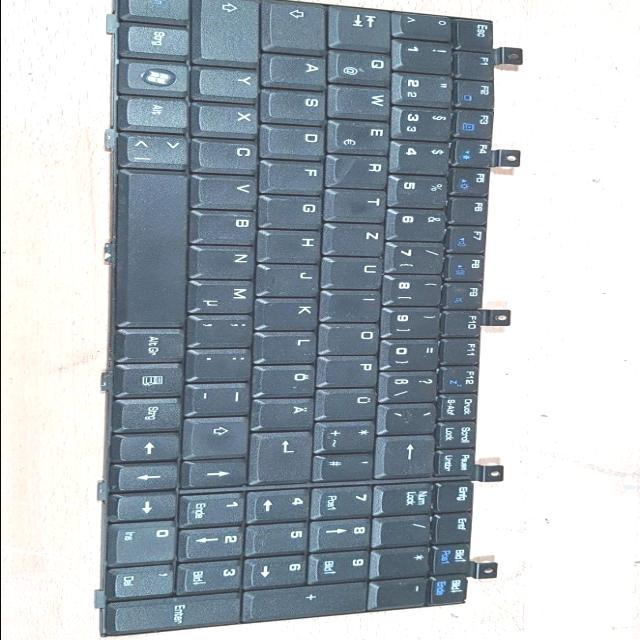0: (384, 339, 444, 369)
1: (398, 38, 458, 72)
2: (396, 72, 458, 106)
3: (395, 106, 457, 140)
4: (394, 140, 455, 173)
5: (394, 175, 452, 207)
6: (391, 208, 450, 240)
7: (390, 242, 449, 272)
8: (385, 274, 447, 304)
9: (386, 307, 445, 337)
a: (267, 53, 332, 87)
accent: (385, 402, 442, 432)
ae: (258, 398, 318, 428)
alt-left: (124, 95, 194, 128)
altgr-right: (122, 328, 190, 360)
b: (195, 209, 261, 244)
c: (198, 139, 263, 173)
caret: (398, 12, 455, 39)
comma: (192, 314, 258, 346)
d: (265, 123, 331, 157)
del: (383, 434, 439, 476)
e: (331, 119, 395, 153)
enter: (257, 430, 317, 482)
f: (265, 159, 329, 192)
g: (264, 195, 328, 228)
h: (261, 229, 325, 262)
hash: (321, 452, 379, 479)
i: (327, 290, 385, 320)
j: (259, 264, 324, 296)
k: (259, 297, 322, 329)
keyboard: (94, 0, 510, 640)
l: (259, 332, 321, 362)
less: (123, 132, 193, 166)
m: (192, 280, 258, 312)
minus: (191, 382, 255, 414)
n: (193, 246, 259, 278)
o: (324, 322, 384, 354)
oe: (259, 364, 320, 396)
p: (325, 355, 383, 386)
plus: (320, 421, 380, 451)
point: (193, 347, 257, 379)
q: (333, 49, 396, 84)
r: (332, 154, 393, 188)
s: (266, 88, 331, 122)
shift-left: (201, 0, 267, 64)
shift-lock: (268, 0, 332, 51)
shift-right: (189, 416, 254, 457)
space: (121, 170, 193, 325)
ss: (384, 370, 442, 400)
strg-left: (127, 22, 193, 56)
strg-right: (120, 397, 186, 431)
t: (330, 188, 391, 221)
tab: (335, 4, 397, 49)
u: (327, 256, 388, 288)
ue: (320, 388, 382, 419)
v: (197, 175, 262, 208)
w: (332, 84, 396, 118)
x: (198, 103, 263, 135)
y: (199, 66, 264, 98)
z: (328, 222, 390, 255)
